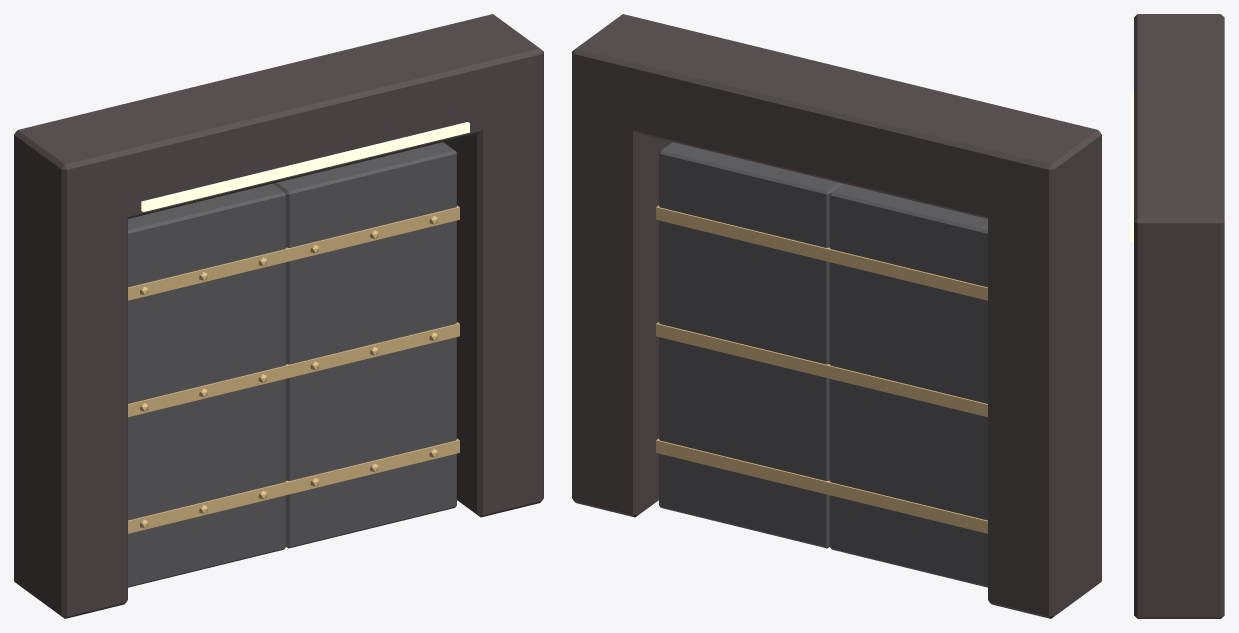
File: ForgeGate.fbx
3 renders of one model, left to right at view 1: azimuth 30°, elevation 25°; view 2: azimuth 150°, elevation 25°; view 3: azimuth 270°, elevation 25°, orthographic. The views are drawn at different scales.
Parts seen in each view (by area): view 1: GateFrame, DoorR, DoorL; view 2: GateFrame, DoorR, DoorL; view 3: GateFrame.
Boxes of the visible parts, <box> form: GateFrame: <box>14,14,543,618</box>; DoorR: <box>273,142,459,548</box>; DoorL: <box>128,184,289,587</box>; GateFrame: <box>572,14,1101,618</box>; DoorR: <box>656,142,842,548</box>; DoorL: <box>826,184,987,587</box>; GateFrame: <box>1130,14,1224,618</box>.
Size of the model in its own units: 6.5 by 5.85 by 1.25.
